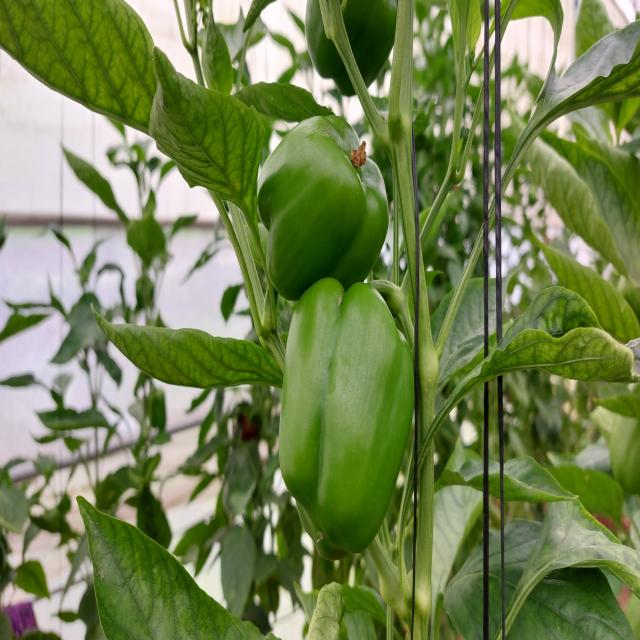Green--Not-ready-to-harvest: (275, 284, 415, 561), (256, 114, 389, 280), (305, 0, 398, 96)
